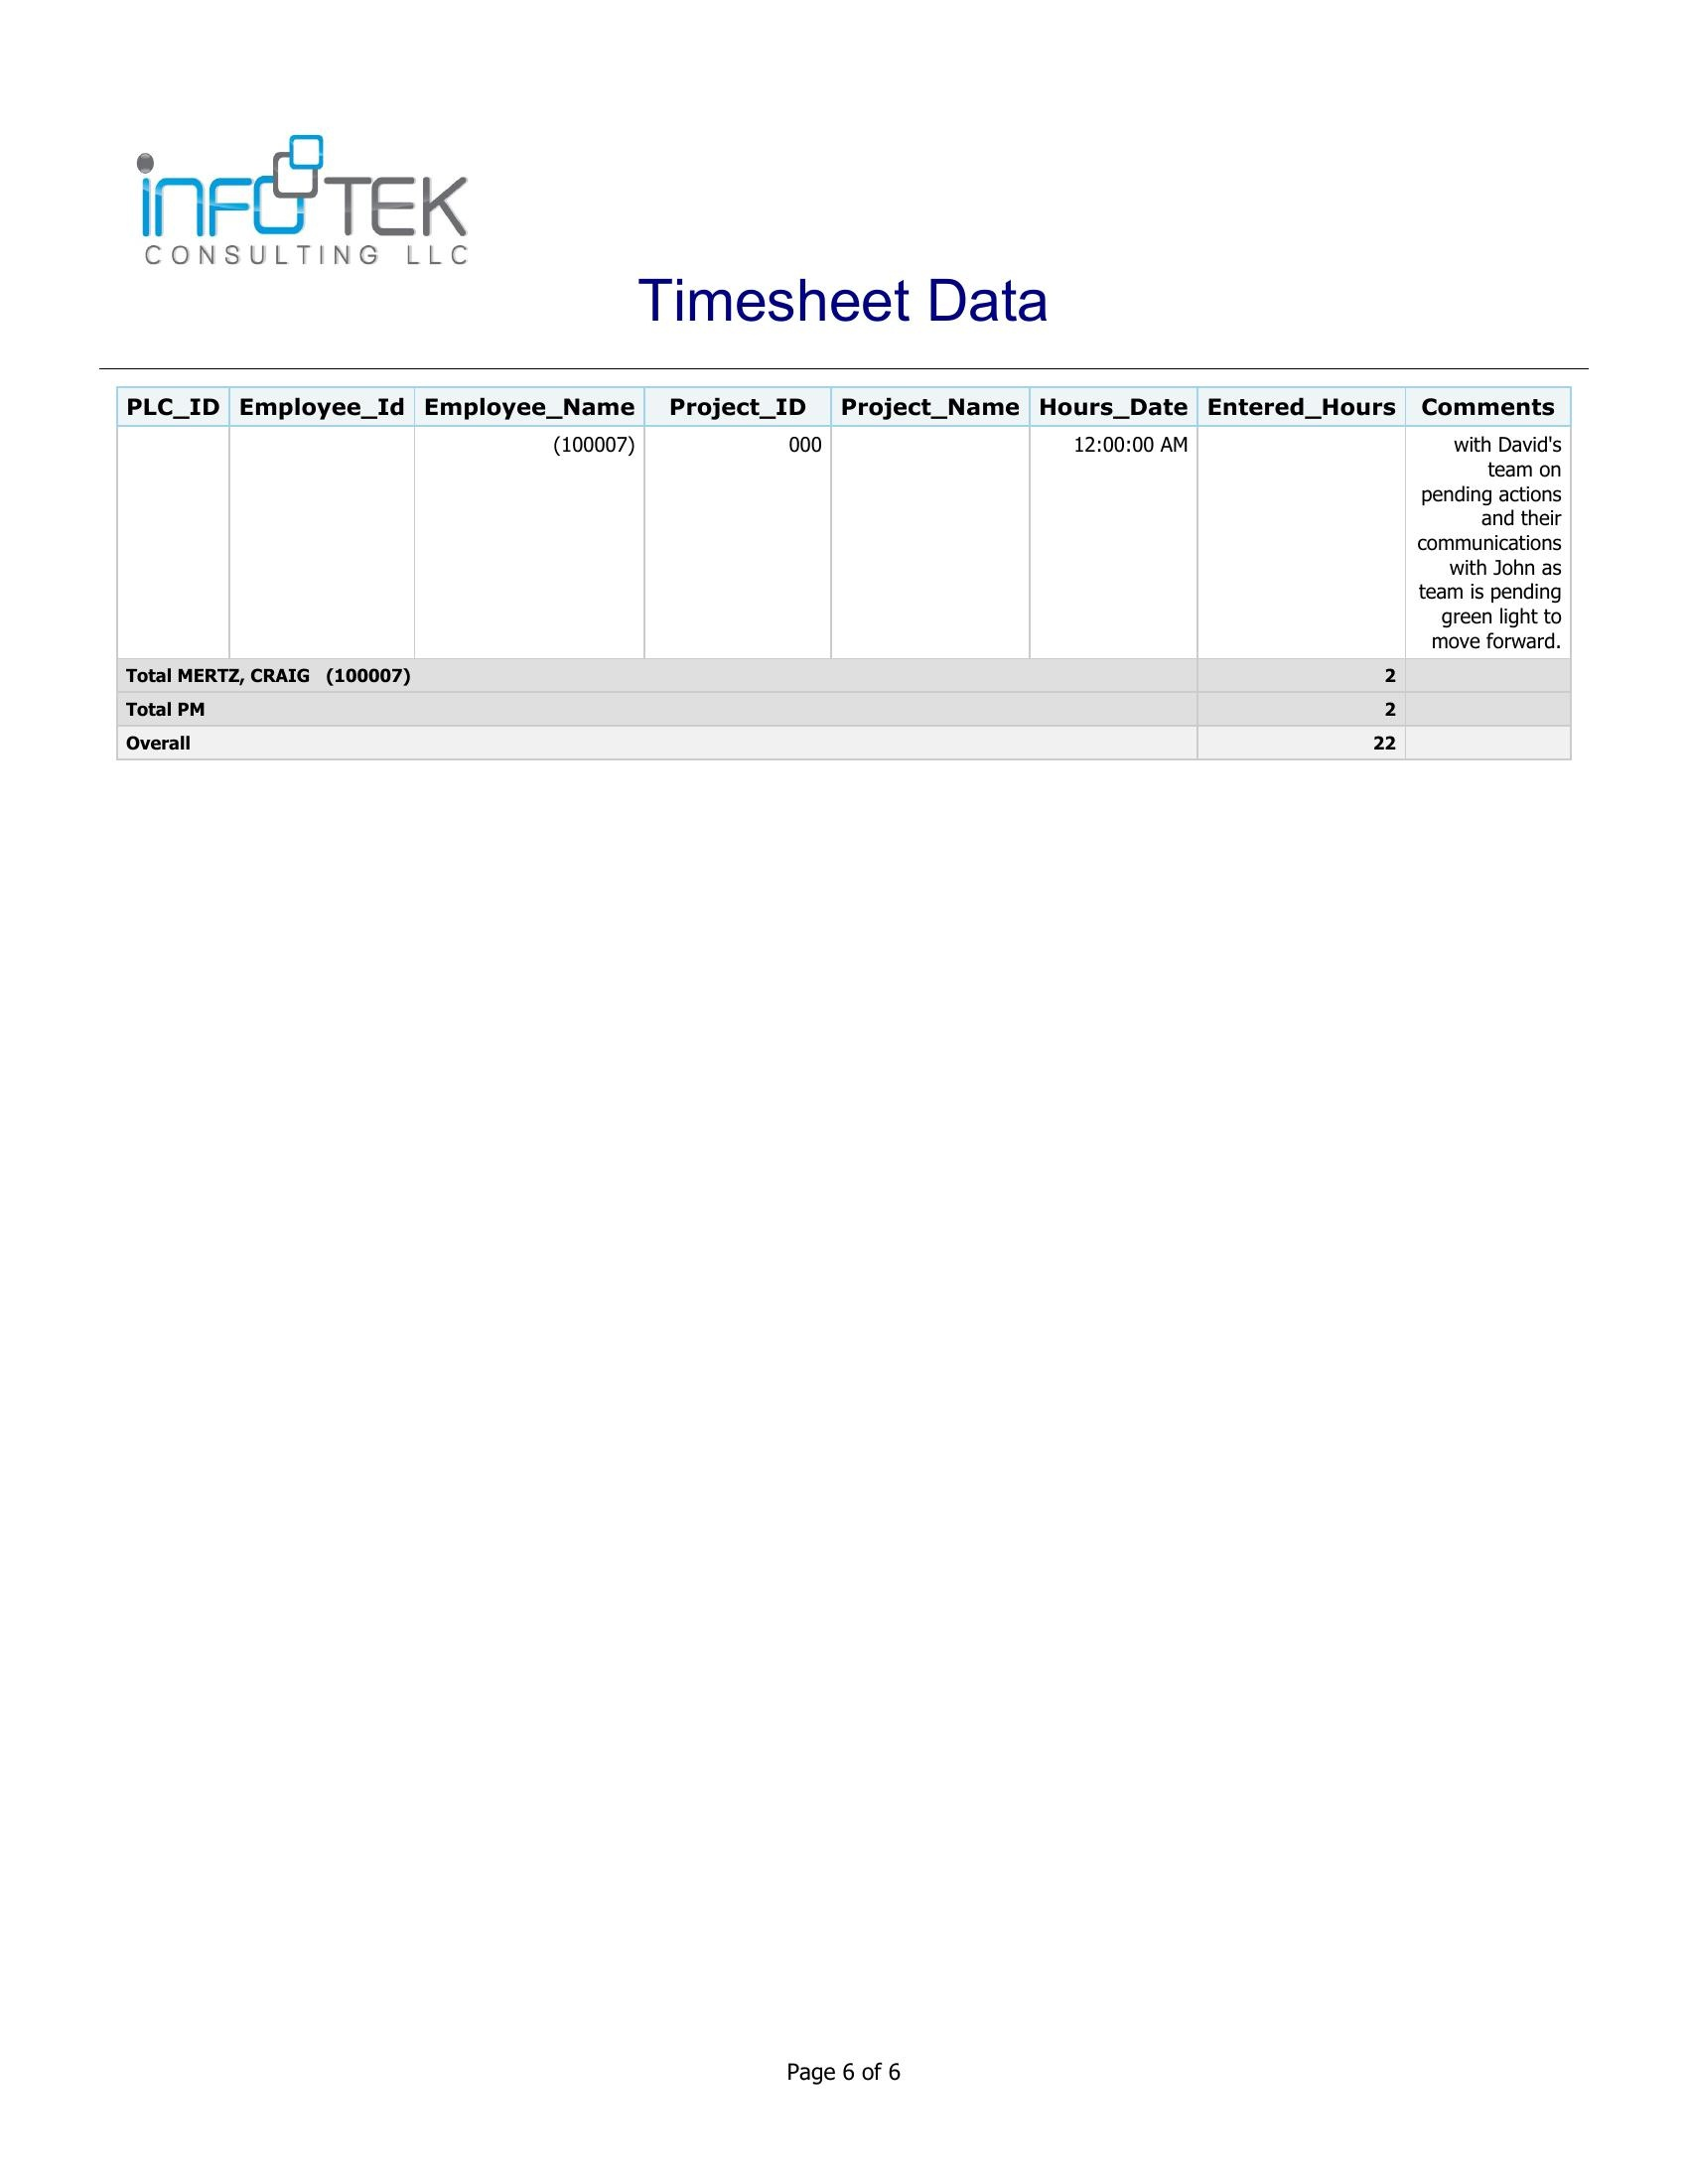0 table: (62, 365, 1619, 667)
